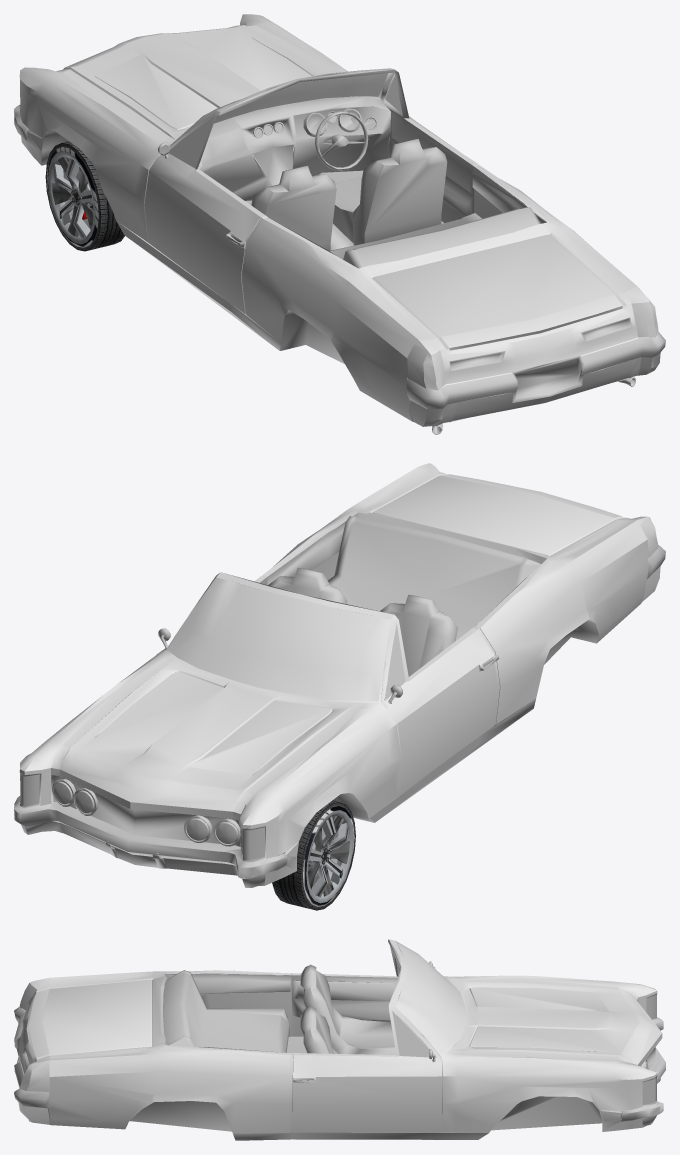
The model's file is 1963 convertable.fbx.
3 views of the same model, one above another, from view 1: azimuth 30°, elevation 25°; view 2: azimuth 150°, elevation 25°; view 3: azimuth 270°, elevation 25° (orthographic). The views are drawn at different scales.
Visible parts, largest first — view 1: 1963 convertable body, 1963 convertable interior, 1963 convertable tire, 1963 convertable glass; view 2: 1963 convertable body, 1963 convertable interior, 1963 convertable glass, 1963 convertable tire; view 3: 1963 convertable body, 1963 convertable interior, 1963 convertable glass.
Boxes of the visible parts, x1,y1,x2,y2 form: 1963 convertable body: [20, 14, 660, 426]; 1963 convertable interior: [14, 68, 665, 434]; 1963 convertable tire: [45, 141, 124, 251]; 1963 convertable glass: [169, 69, 402, 168]; 1963 convertable body: [20, 463, 660, 885]; 1963 convertable interior: [14, 513, 665, 887]; 1963 convertable glass: [167, 577, 405, 701]; 1963 convertable tire: [272, 800, 355, 910]; 1963 convertable body: [18, 939, 662, 1133]; 1963 convertable interior: [14, 939, 665, 1140]; 1963 convertable glass: [392, 941, 467, 1057].
Size of the model in its own units: 240 by 181 by 664.
